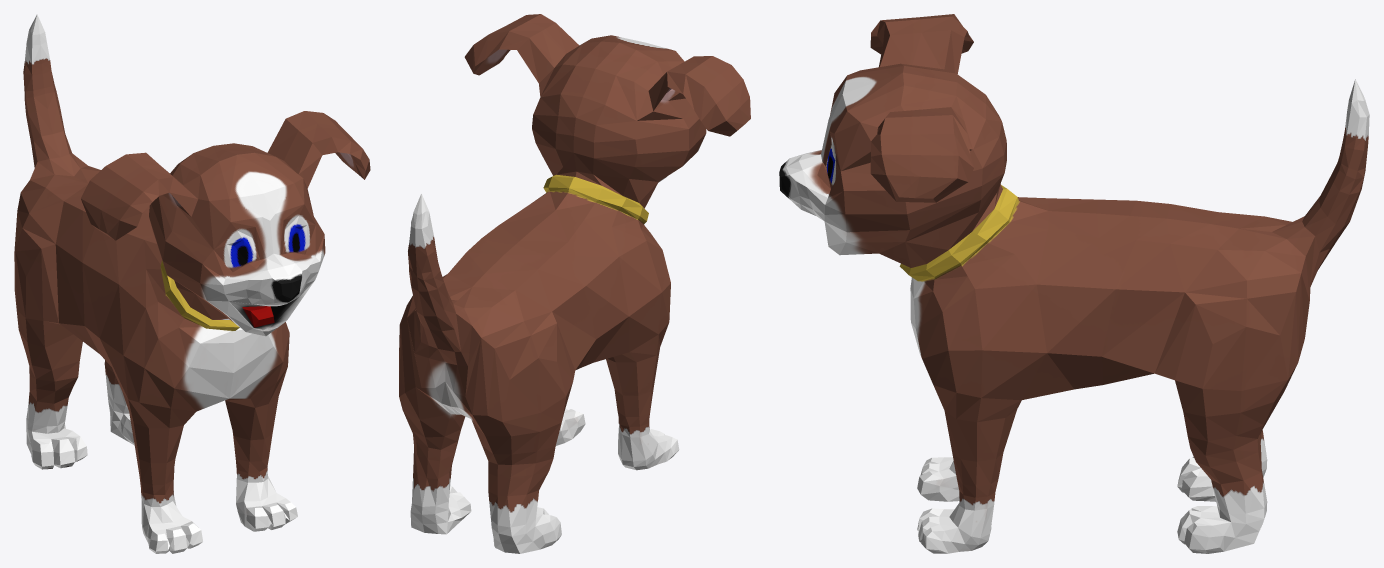
File: cutedog.obj
3 views of the same model, side by side, from view 1: azimuth 30°, elevation 25°; view 2: azimuth 150°, elevation 25°; view 3: azimuth 270°, elevation 25° (orthographic). The views are drawn at different scales.
Visible parts, largest first — view 1: cuteDog_Cube.006; view 2: cuteDog_Cube.006; view 3: cuteDog_Cube.006.
Boxes of the visible parts, <box> form: cuteDog_Cube.006: <box>14,14,370,553</box>; cuteDog_Cube.006: <box>399,14,750,553</box>; cuteDog_Cube.006: <box>779,14,1369,553</box>.
Size of the model in its own units: 1.77 by 2.55 by 3.01.
Materials: 1 (1 with a texture image).
